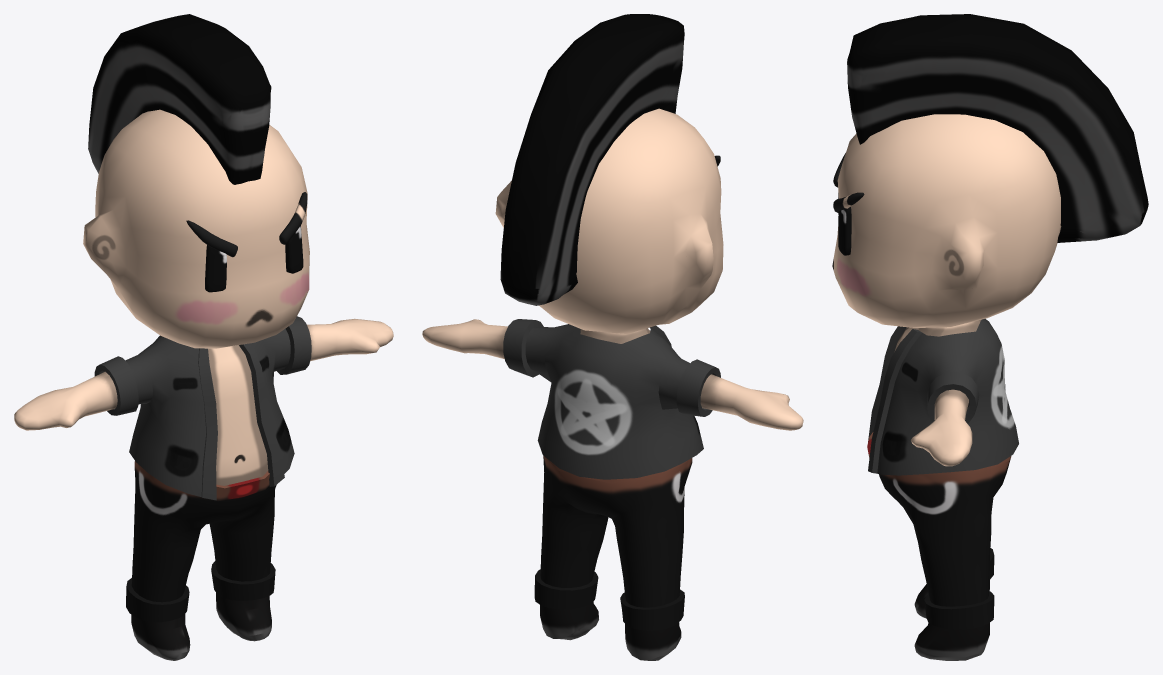
File: Coba2.fbx
The picture shows the model from 3 angles, left to right: view 1: azimuth 30°, elevation 25°; view 2: azimuth 150°, elevation 25°; view 3: azimuth 270°, elevation 25°; orthographic projection.
Visible parts, largest first — view 1: Kepala, Rambut, Baju, Celana, Badan, Sepatu, Mata, Alis; view 2: Kepala, Rambut, Baju, Celana, Badan, Sepatu; view 3: Kepala, Rambut, Baju, Celana, Badan, Sepatu, Mata, Alis.
Part boxes in pixels (x1,y1,x2,y2): Kepala: [83, 109, 309, 348]; Rambut: [88, 14, 271, 184]; Baju: [94, 316, 311, 500]; Celana: [126, 461, 276, 622]; Badan: [14, 318, 393, 485]; Sepatu: [131, 593, 271, 660]; Mata: [205, 225, 303, 292]; Alis: [186, 192, 307, 257]; Kepala: [495, 108, 723, 333]; Rambut: [500, 14, 684, 305]; Baju: [503, 319, 720, 479]; Celana: [534, 456, 692, 630]; Badan: [422, 319, 803, 430]; Sepatu: [540, 601, 681, 660]; Kepala: [832, 114, 1061, 327]; Rambut: [847, 14, 1148, 242]; Baju: [868, 318, 1018, 475]; Celana: [867, 432, 1011, 629]; Badan: [894, 320, 980, 466]; Sepatu: [914, 580, 989, 660]; Mata: [838, 193, 851, 255]; Alis: [833, 153, 864, 212].
Size of the model in its own units: 83.8 by 130 by 60.71.
Materials: 8 (8 with a texture image).
